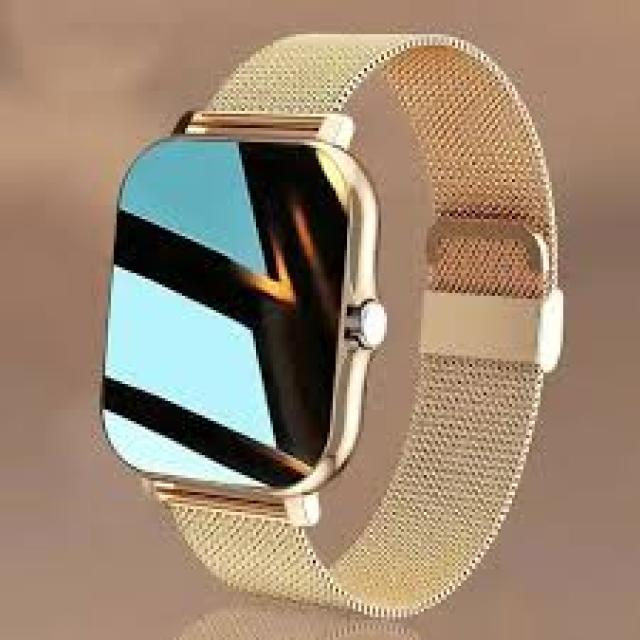watch: (83, 114, 398, 511)
